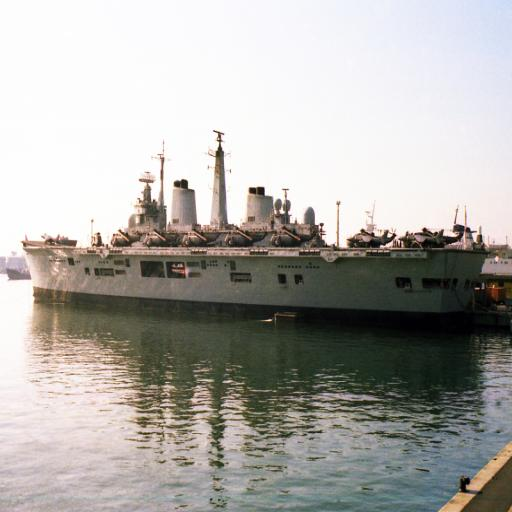Portanaves: (18, 127, 491, 336)
